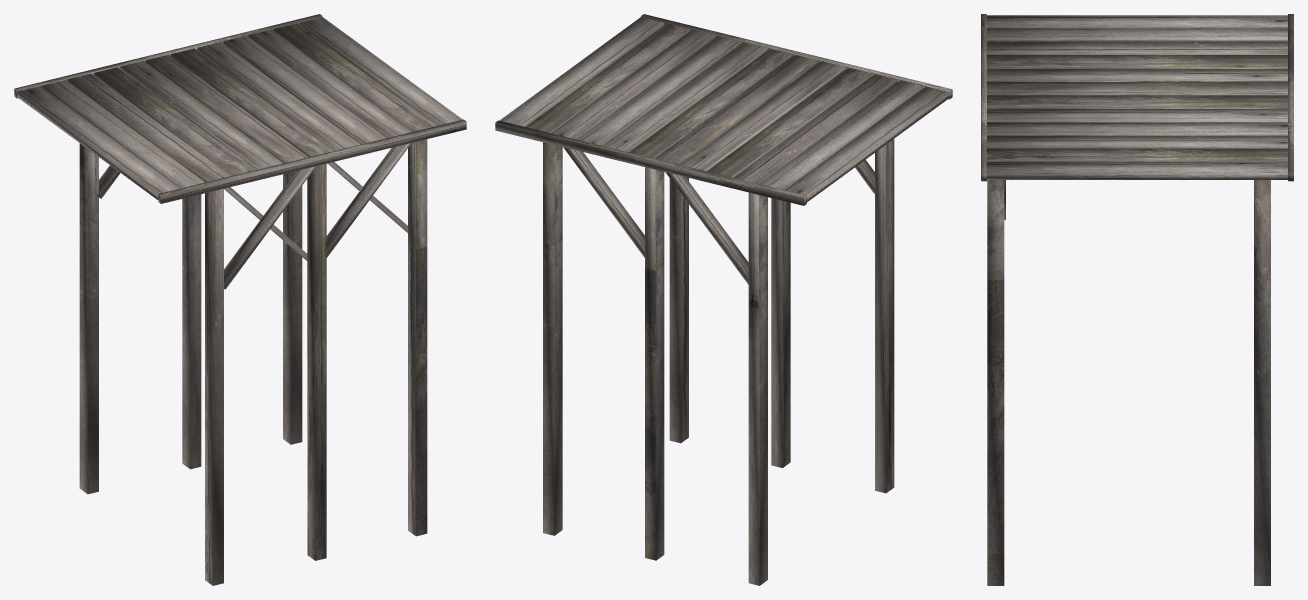
Rendered from docks.fbx.
3 views of the same model, side by side, from view 1: azimuth 30°, elevation 25°; view 2: azimuth 150°, elevation 25°; view 3: azimuth 270°, elevation 25° (orthographic). The views are drawn at different scales.
Visible parts, largest first — view 1: docks; view 2: docks; view 3: docks.
Boxes of the visible parts, box(x1,y1,x2,y2) form: docks: box(14, 14, 466, 585); docks: box(495, 14, 952, 585); docks: box(981, 14, 1293, 585).
Bounding box in the file's own units: 87.58 × 111 × 72.82.
